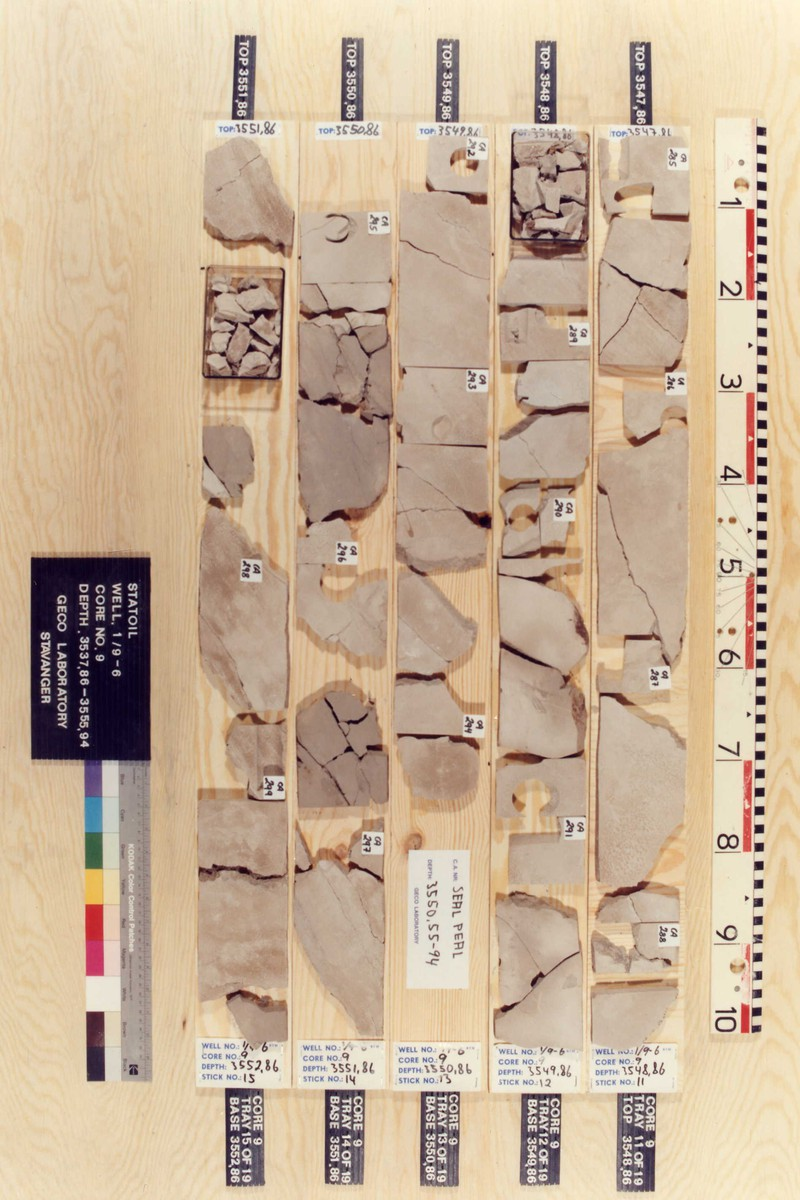core: (495, 131, 588, 1048), (597, 134, 684, 1045), (397, 140, 489, 804), (202, 427, 291, 1042), (298, 211, 389, 662), (294, 830, 384, 1036), (297, 692, 393, 810), (202, 137, 295, 257), (204, 268, 286, 380)
